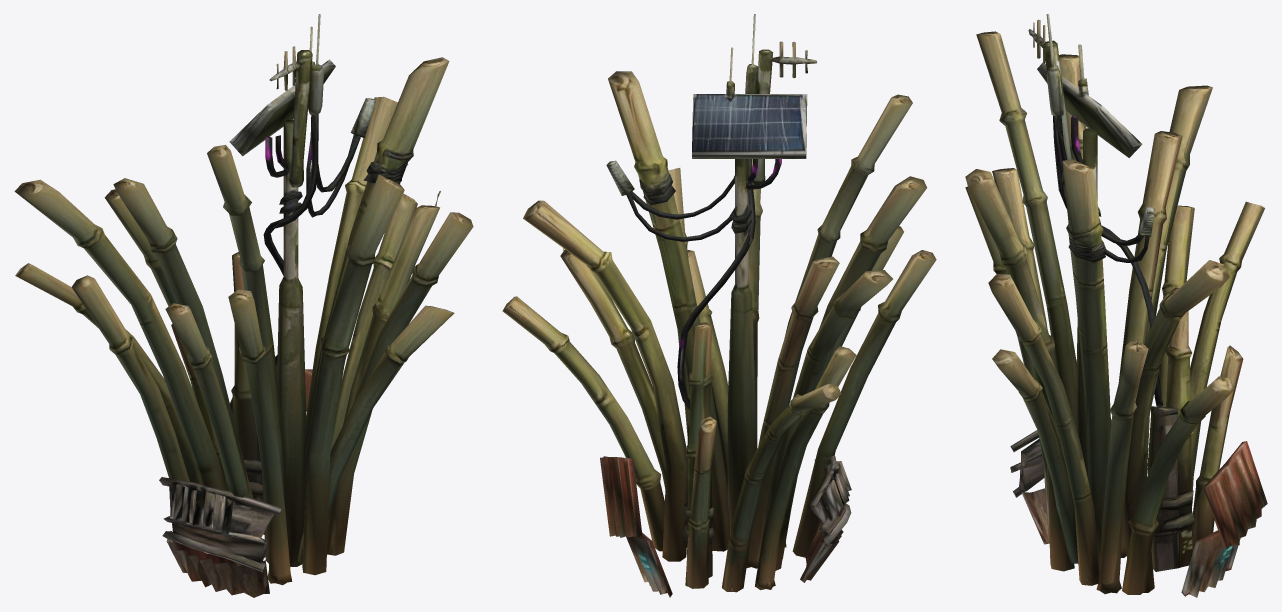
Rendered from bamboo_clump.glb.
The picture shows the model from 3 angles, left to right: view 1: azimuth 30°, elevation 25°; view 2: azimuth 150°, elevation 25°; view 3: azimuth 270°, elevation 25°; orthographic projection. The views are drawn at different scales.
Parts seen in each view (by area): view 1: Body; view 2: Body; view 3: Body.
Boxes of the visible parts, bbox=[...] form: Body: bbox=[14, 14, 473, 597]; Body: bbox=[502, 14, 936, 597]; Body: bbox=[965, 14, 1267, 597].
Size of the model in its own units: 7.46 by 10 by 4.87.
Materials: 1 (1 with a texture image).
